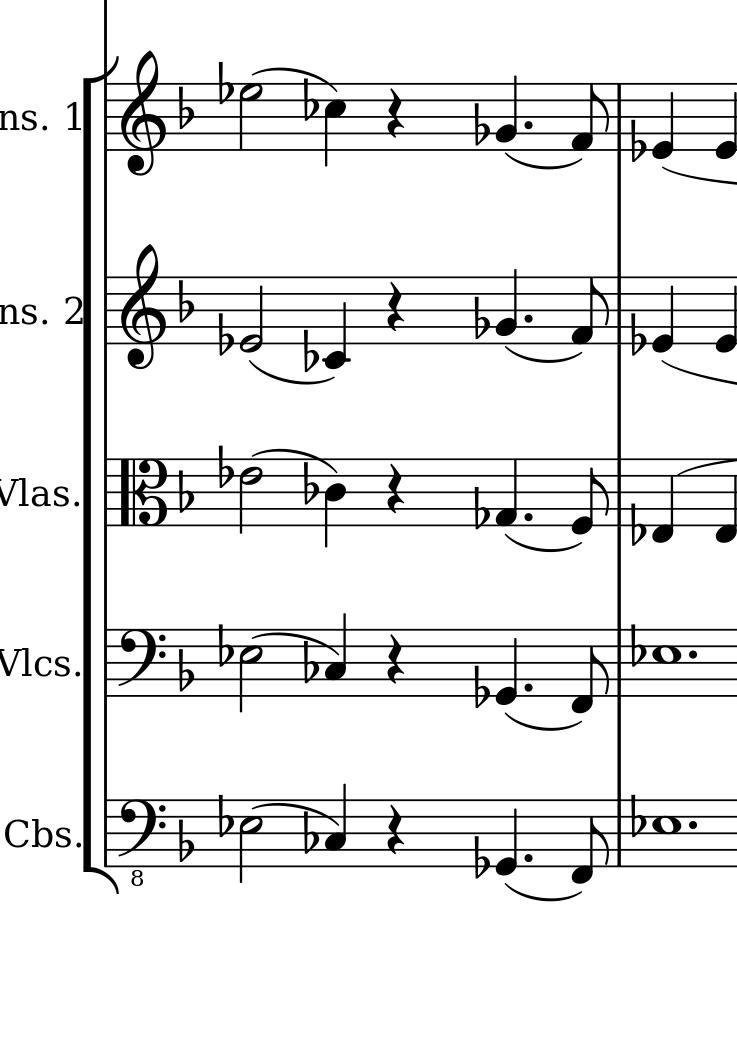16_-1: (572, 797, 611, 885), (571, 626, 609, 715)
16_0: (568, 457, 610, 538)
16_1: (567, 277, 612, 346), (569, 82, 611, 152)
1_5: (650, 798, 685, 873), (651, 627, 683, 699)
2_0: (238, 275, 267, 355)
2_5: (239, 626, 264, 715), (238, 797, 263, 886)
2_6: (234, 454, 267, 535)
2_7: (237, 82, 267, 152)
4_-1: (649, 456, 676, 546)
4_-2: (321, 274, 349, 372)
4_0: (494, 626, 522, 709), (648, 274, 676, 355), (495, 797, 522, 879), (652, 81, 676, 163)
4_1: (496, 457, 521, 529)
4_2: (494, 73, 521, 153), (496, 268, 520, 349)
4_3: (323, 782, 350, 870), (324, 613, 350, 699)
4_4: (323, 456, 349, 548)
4_5: (322, 81, 347, 167)
Bracke: (81, 54, 121, 898)
Cb: (10, 809, 51, 855)
Cclef: (119, 455, 171, 532)
Fclef: (115, 629, 169, 700)
Flat: (175, 84, 197, 132), (298, 76, 319, 126), (174, 276, 195, 325), (300, 460, 321, 509), (473, 661, 493, 711), (212, 622, 232, 670), (628, 622, 647, 671), (173, 820, 193, 866), (177, 469, 196, 517), (628, 309, 647, 355), (215, 312, 234, 357), (215, 793, 234, 838), (471, 486, 489, 533), (471, 295, 490, 339), (215, 60, 233, 106), (301, 327, 319, 373), (629, 501, 647, 547), (628, 119, 647, 162), (216, 446, 234, 491), (301, 808, 318, 855), (177, 649, 195, 693), (629, 793, 646, 839), (472, 100, 488, 148), (301, 641, 318, 685), (472, 836, 489, 880)
Gclef: (120, 242, 168, 373), (123, 47, 165, 181)
Lower_Fclef: (117, 797, 170, 887)
Rests4: (384, 87, 409, 140), (382, 280, 406, 335), (385, 464, 407, 518), (382, 632, 405, 683), (383, 803, 405, 853)
Single_barline: (609, 629, 628, 697), (99, 83, 117, 151), (98, 630, 116, 697), (98, 459, 116, 526), (609, 83, 627, 150), (609, 276, 627, 343), (610, 800, 627, 866), (99, 800, 116, 865), (610, 458, 626, 526), (99, 277, 115, 343)
Slur: (251, 447, 340, 475), (253, 801, 343, 828), (251, 630, 339, 657), (253, 67, 341, 93), (250, 360, 332, 387), (505, 534, 583, 553), (506, 713, 579, 733), (506, 347, 583, 365), (506, 884, 582, 902), (506, 157, 581, 171)
Vla: (1, 473, 54, 511)
Vlc: (1, 635, 53, 688)
dot: (520, 310, 537, 328), (520, 680, 536, 695), (520, 118, 536, 133), (521, 851, 536, 865), (522, 509, 536, 524), (685, 647, 699, 662), (687, 818, 699, 832)
